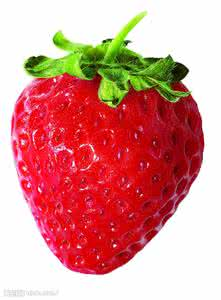strawberry: (14, 20, 207, 273)
